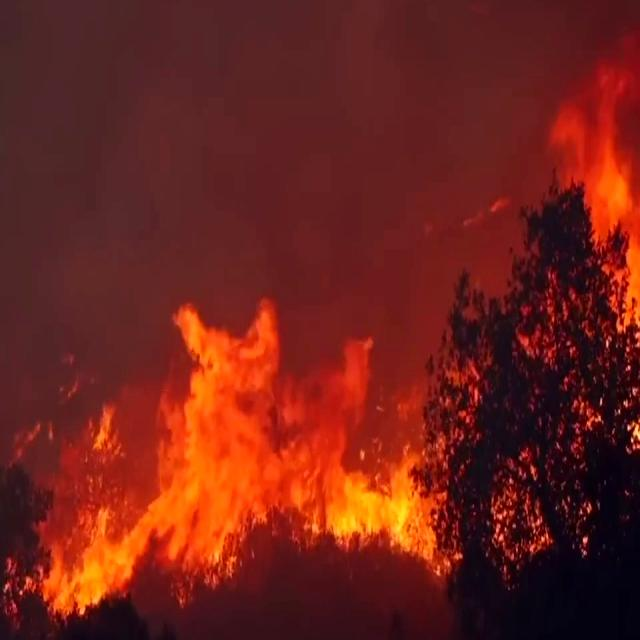fire: (127, 300, 370, 555), (576, 51, 640, 313)
smoke: (0, 0, 257, 292)
